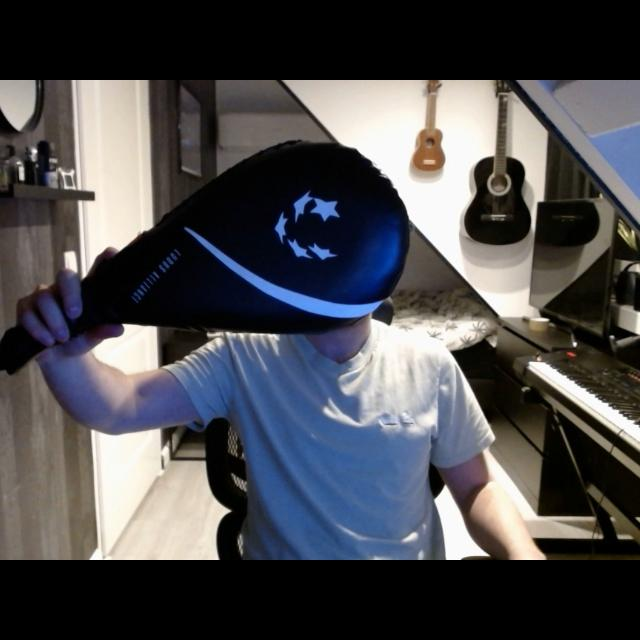paddle: (7, 140, 411, 358)
